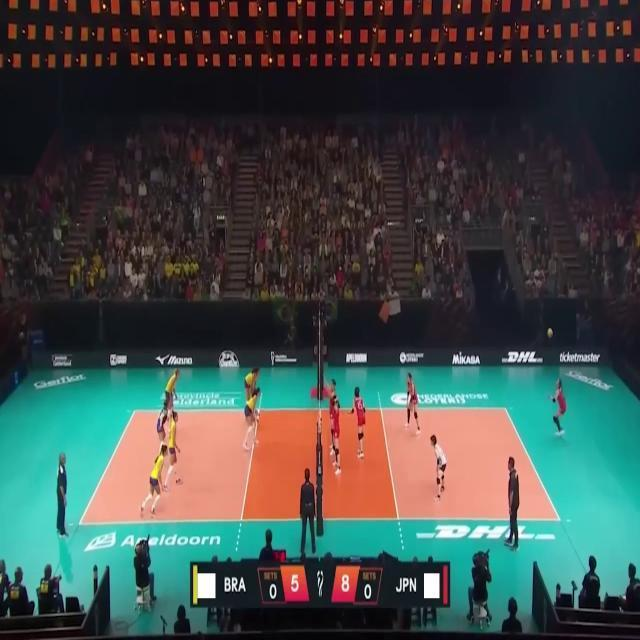volleyball: (547, 328, 553, 338)
